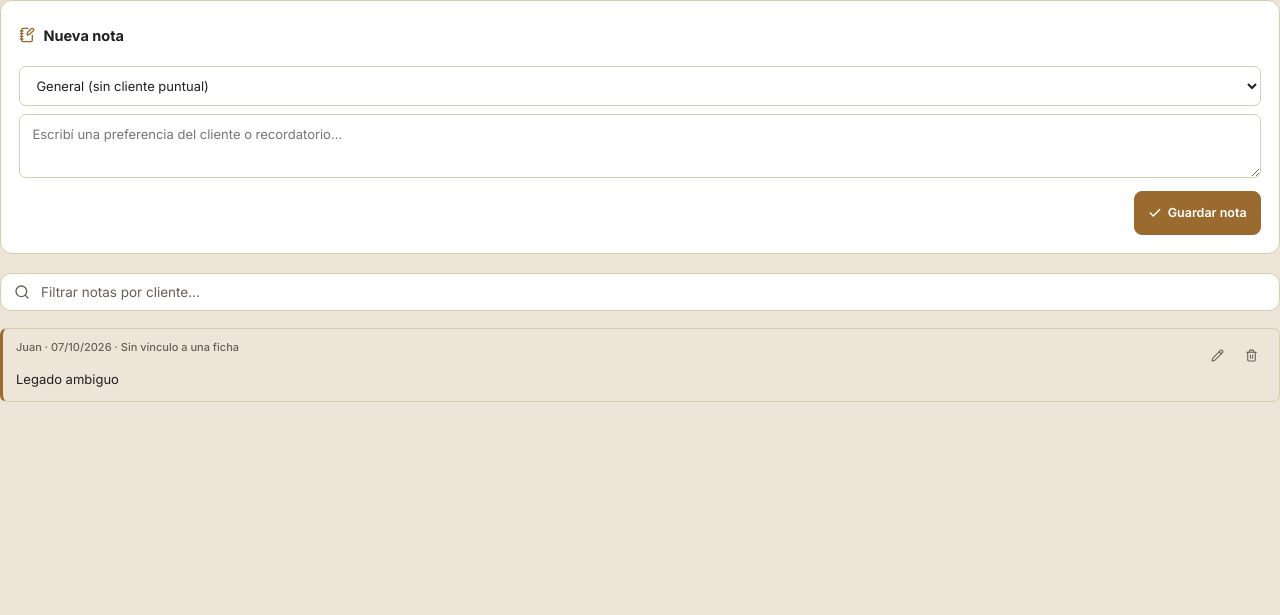
Test: Notas: identidad estable de cliente (43) › conserva la vinculación elegida y texto si falla editar una nota antigua
The image size is (1280, 615).
Click the button named "Editar nota" at [1217, 355], box [1202, 340, 1232, 370]
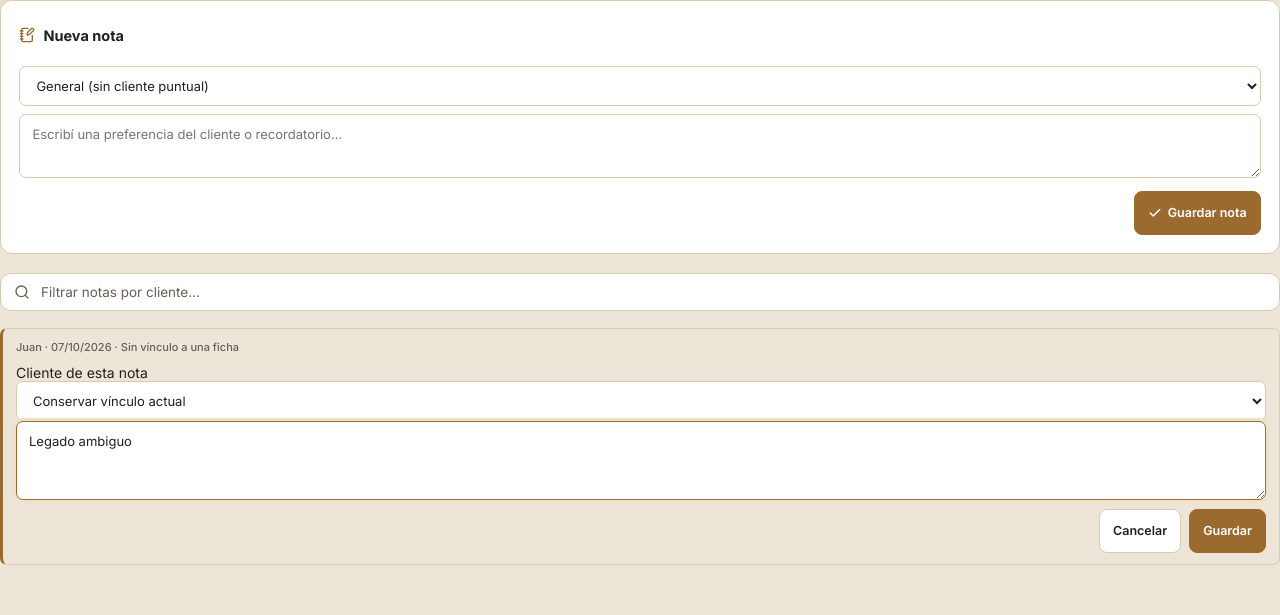
Select "Juan · …0002" in the dropdown labelled "Cliente de esta nota" at [641, 401], box [16, 381, 1266, 421]
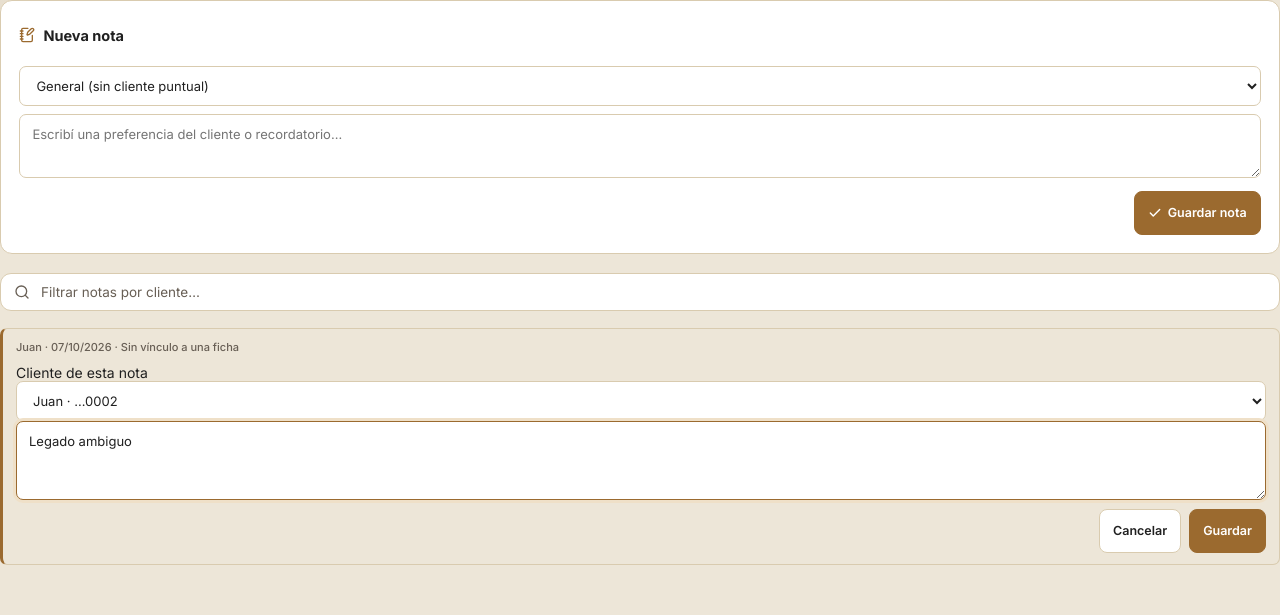
Click the button "Guardar" at [1228, 531], box [1189, 509, 1266, 553]
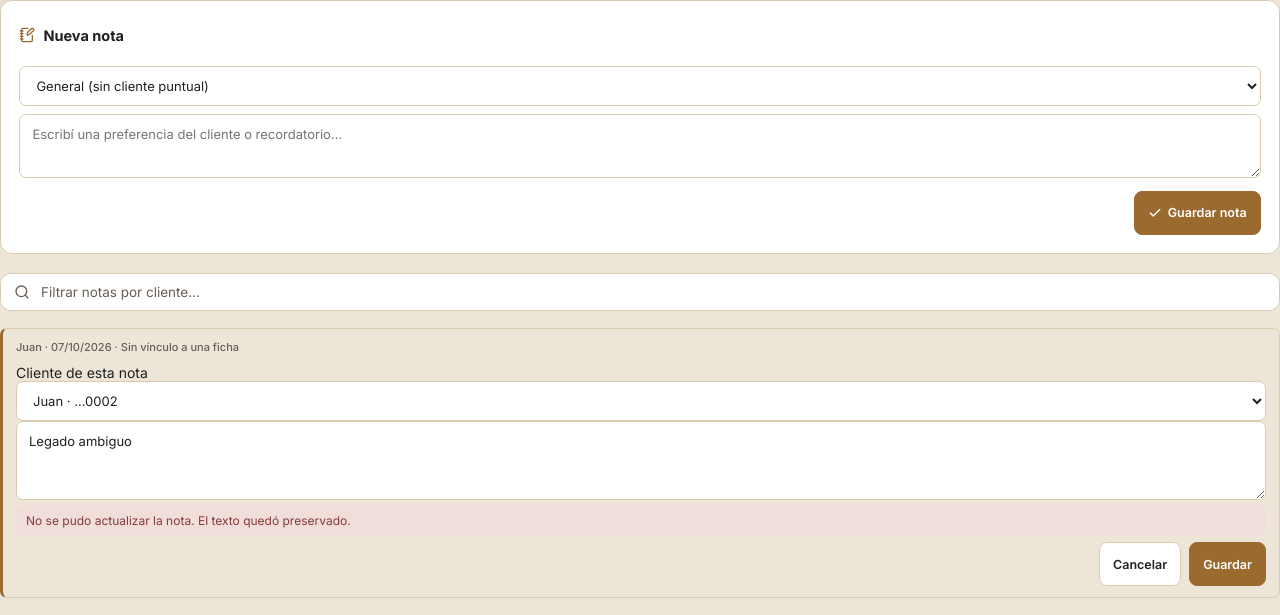
Result: the text box showing "Legado ambiguo" is shown at [16, 421, 1266, 500]
Result: the text "No se pudo actualizar la nota. El texto quedó preservado." is shown at [16, 505, 1266, 536]
